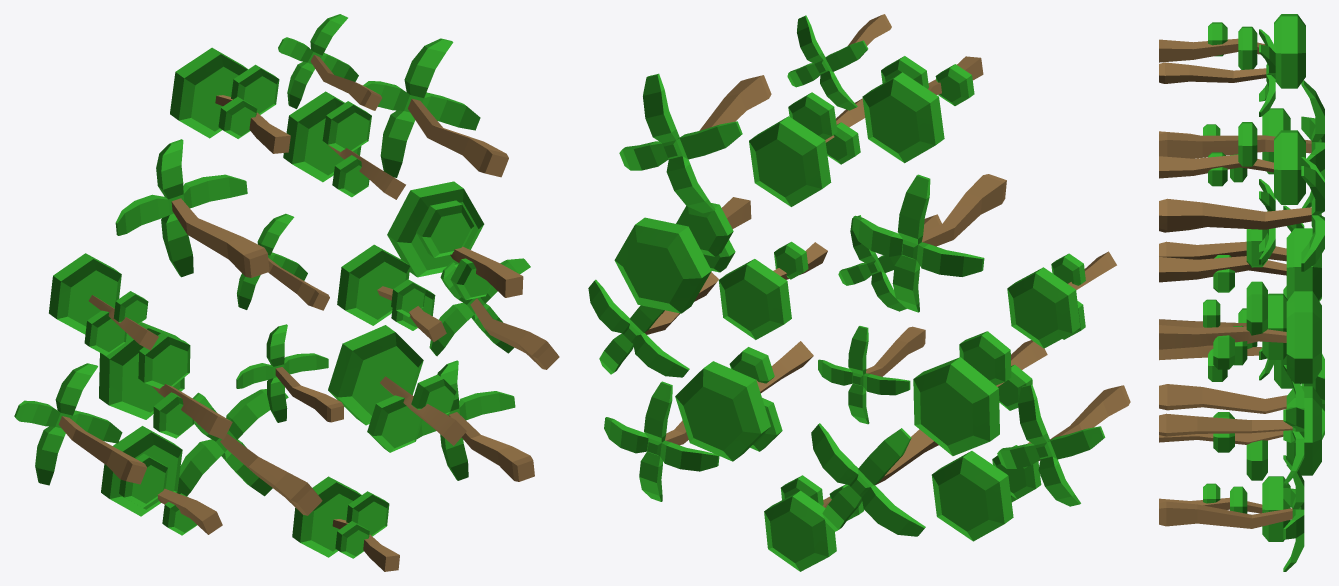
Rendered from nature_jungleRiver.fbx.
The picture shows the model from 3 angles, left to right: view 1: azimuth 30°, elevation 25°; view 2: azimuth 150°, elevation 25°; view 3: azimuth 270°, elevation 25°; orthographic projection. The views are drawn at different scales.
Parts seen in each view (by area): view 1: Jungle; view 2: Jungle; view 3: Jungle.
Boxes of the visible parts, x1,y1,x2,y2 form: Jungle: [14, 14, 559, 571]; Jungle: [588, 14, 1130, 571]; Jungle: [1159, 14, 1324, 571].
Bounding box in the file's own units: 187 × 189 × 56.81.
